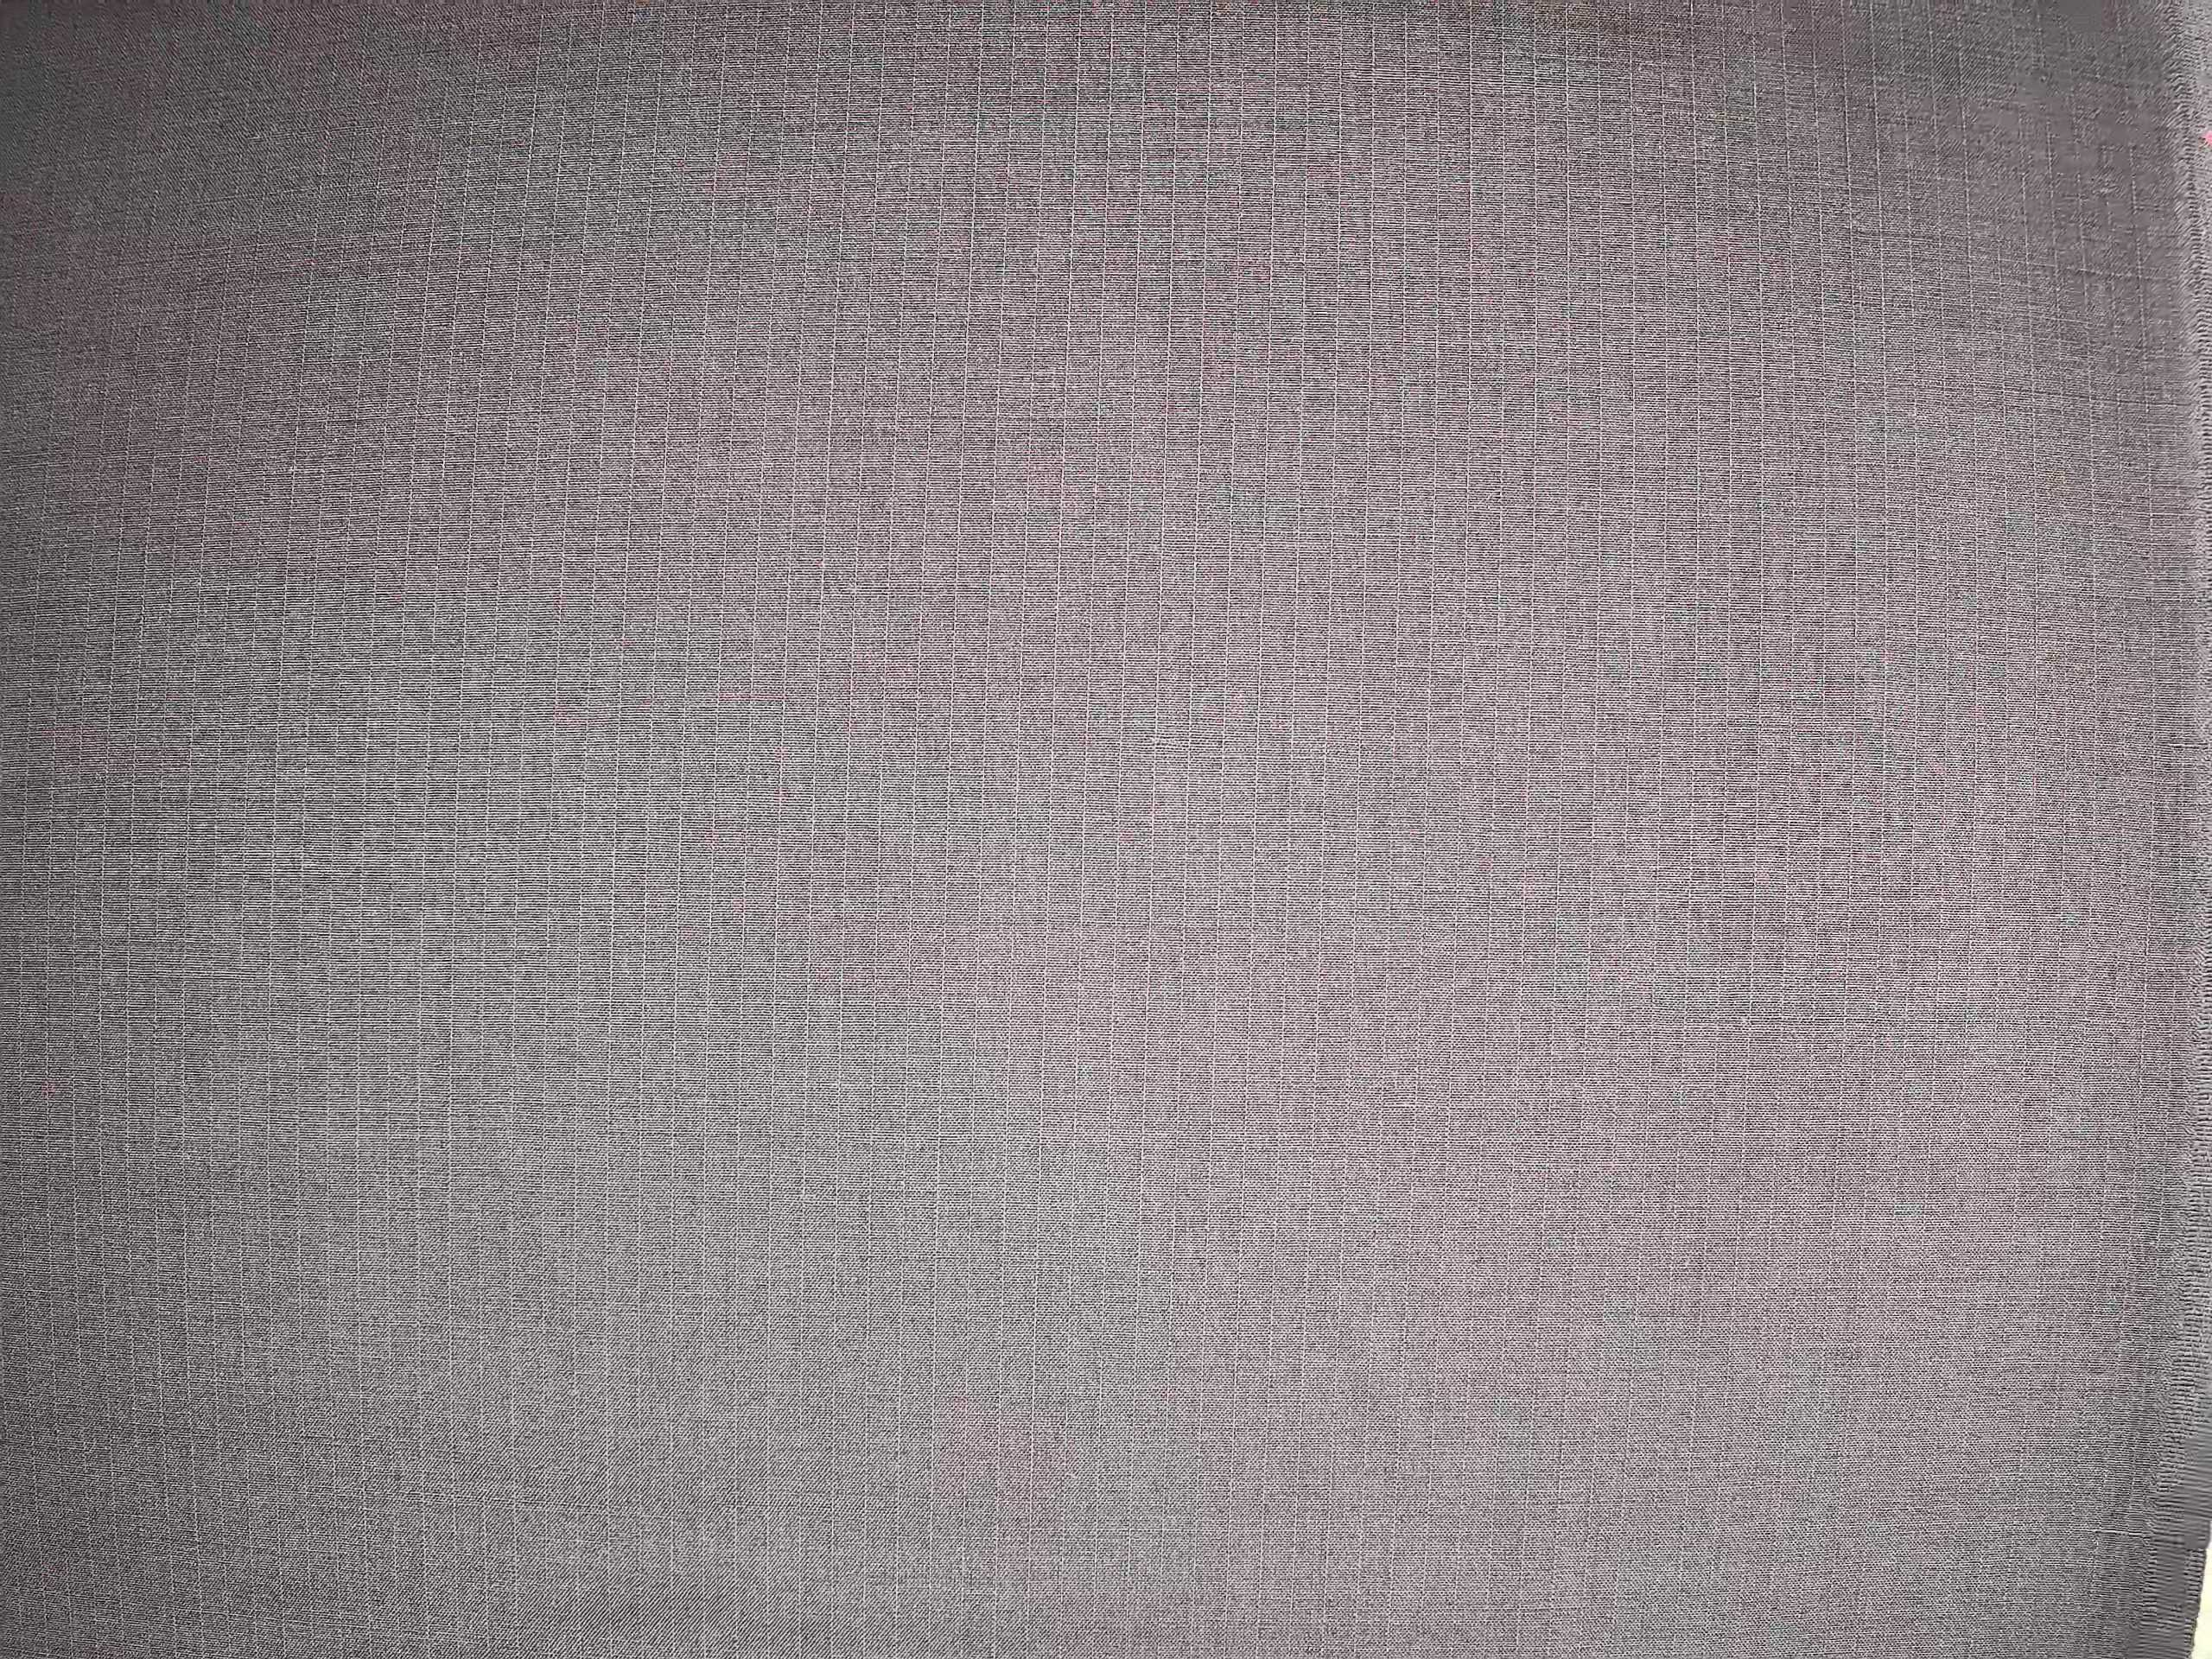thin-spinning: (1109, 941, 1447, 1011)
